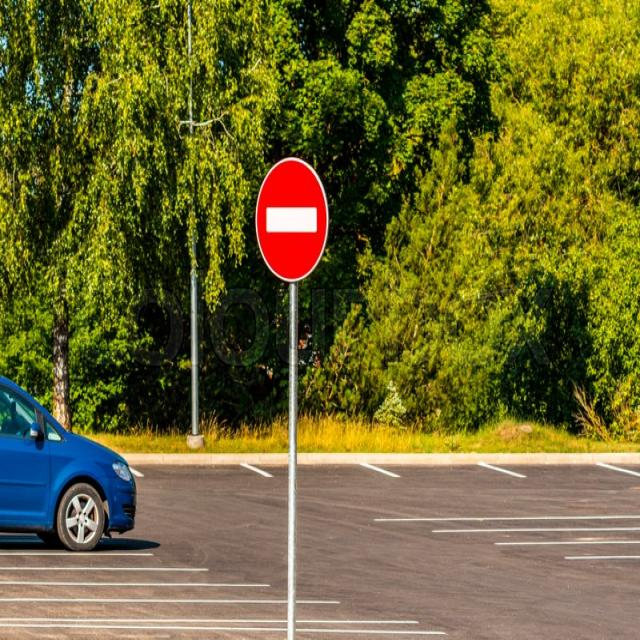no entry: (252, 154, 332, 286)
